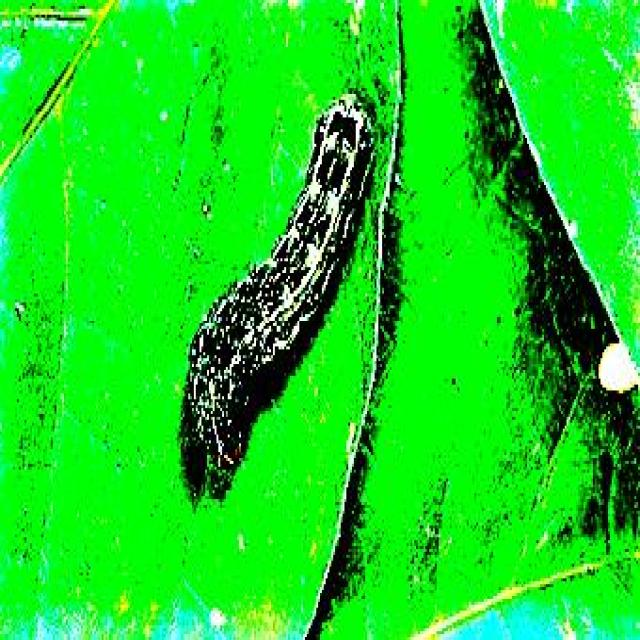Armyworm: (183, 69, 398, 509)
